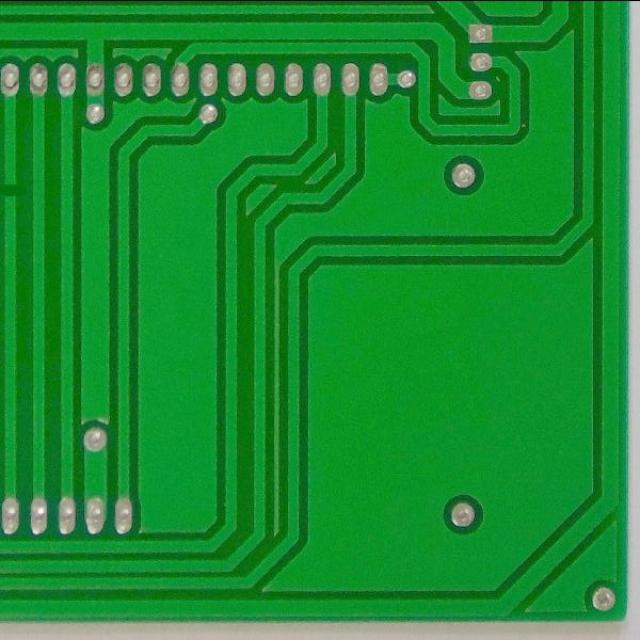Open_Circuit: (0, 172, 27, 211)
